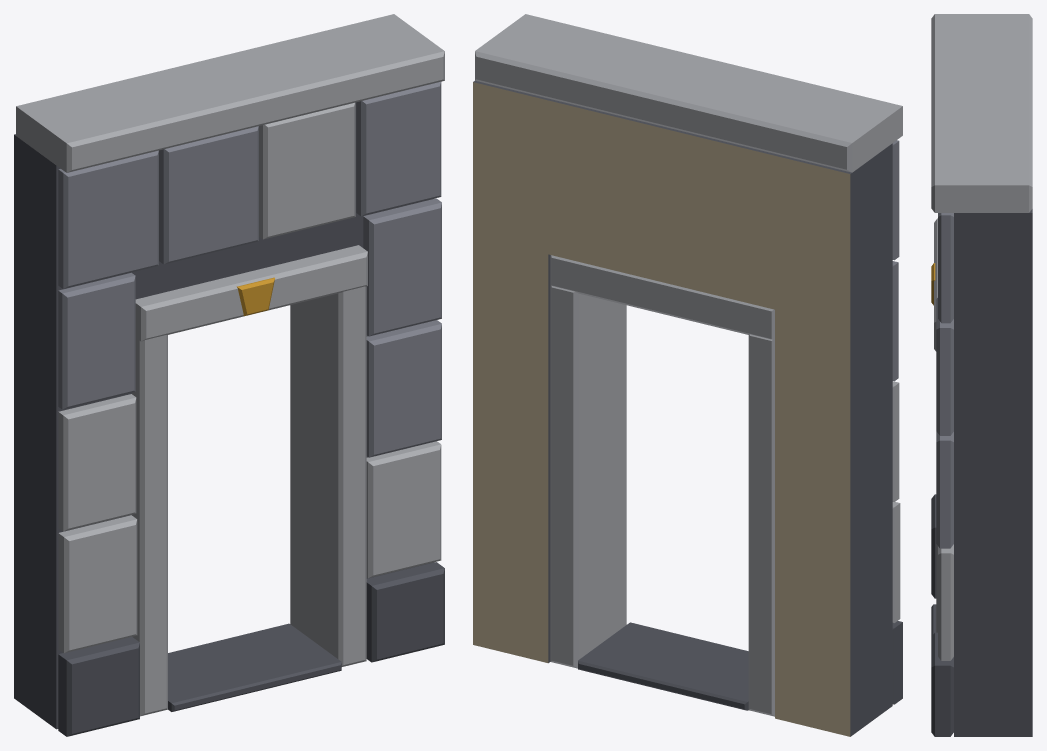
File: WallDoor_12.glb
3 views of the same model, side by side, from view 1: azimuth 30°, elevation 25°; view 2: azimuth 150°, elevation 25°; view 3: azimuth 270°, elevation 25° (orthographic). The views are drawn at different scales.
Parts seen in each view (by area): view 1: WallDoor_12; view 2: WallDoor_12; view 3: WallDoor_12.
Part boxes in pixels (bbox=[...]): WallDoor_12: bbox=[14, 14, 444, 736]; WallDoor_12: bbox=[473, 14, 902, 736]; WallDoor_12: bbox=[931, 14, 1032, 736].
Bounding box in the file's own units: 8 × 12 × 2.
